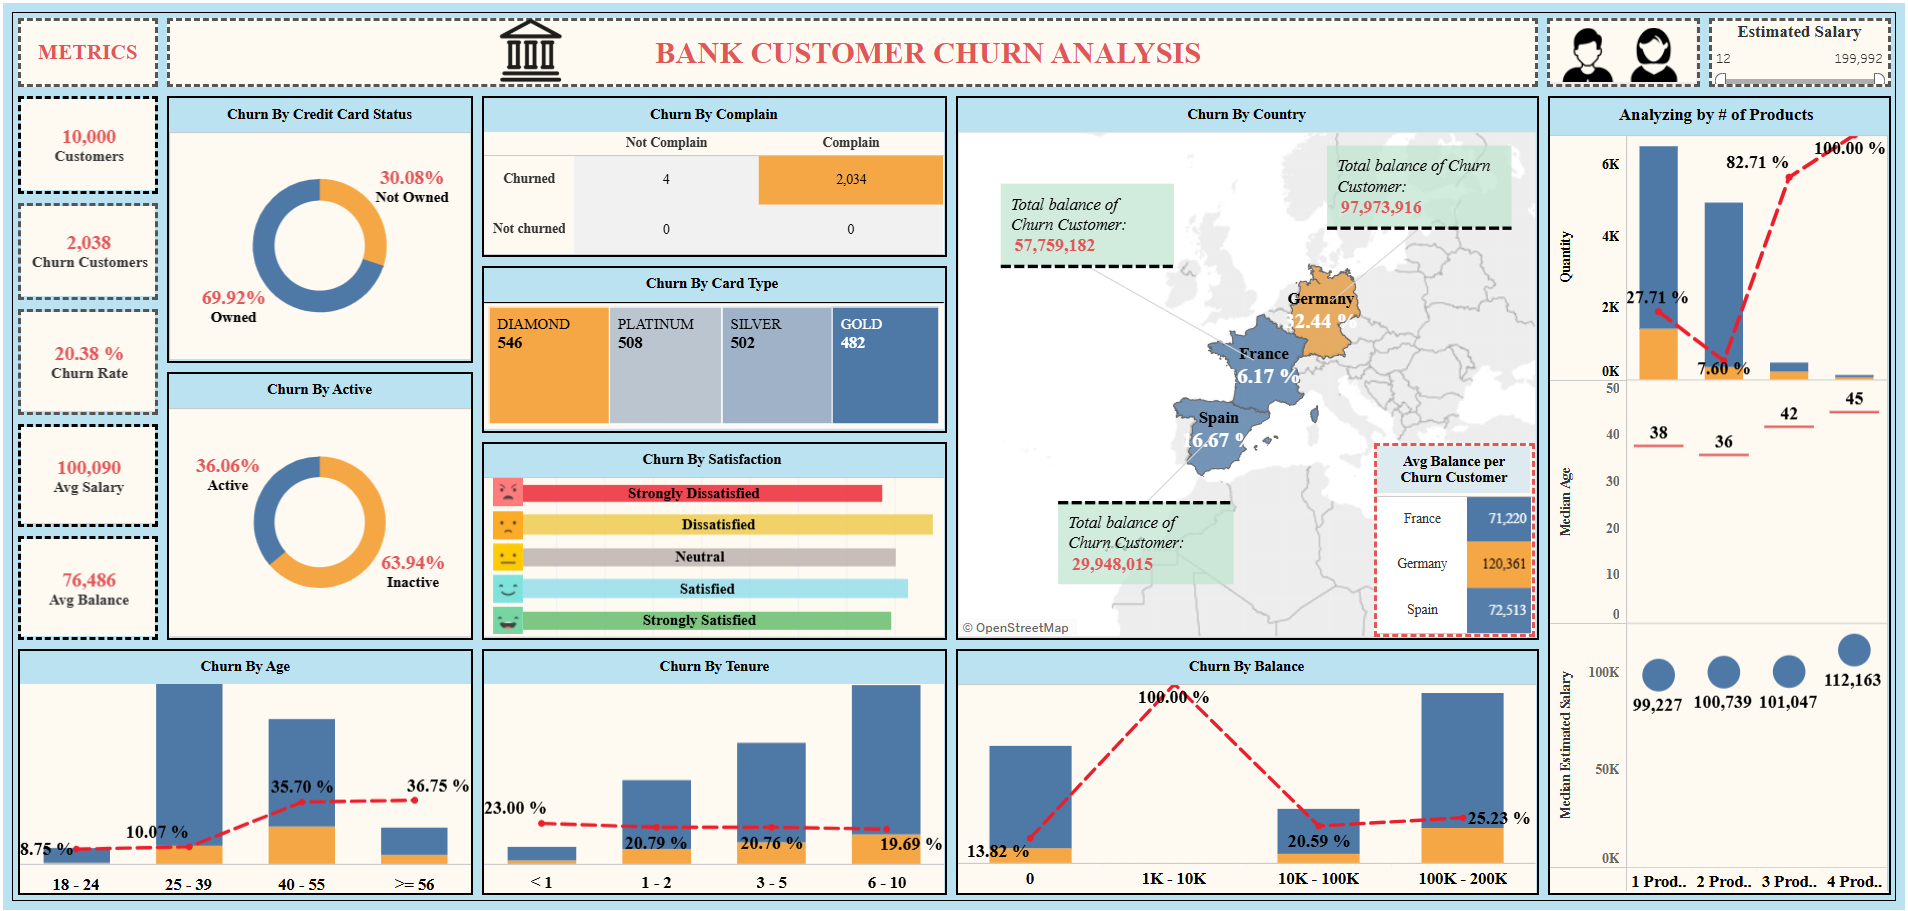

What the dashboard file says about the page in this screenshot:
{"tool":"tableau","page":{"name":"FINAL ","canvas":[1000,1000],"units":"permille","ordinal":0},"visuals":[{"type":"text","box":[4.8,10.6,78.5,86.9]},{"type":"text","box":[83.3,10.6,726.2,86.9]},{"type":"worksheet","title":"Gender Icon","mark":"Shape","box":[809.5,10.6,85.1,86.9]},{"type":"filter","title":"# of Churn Customers","param":"[federated.1y563ex0128zuw1749lqe1ok0bhp].[none:EstimatedSalary:qk]","box":[894.6,10.6,100.6,86.9]},{"type":"image","param":"Image/2703084_bank_banking_payment_icon.png","box":[253.2,15.3,48.2,74]},{"type":"worksheet","title":"Total Customers (2)","mark":"Automatic","box":[4.8,97.5,78.5,117.5]},{"type":"worksheet","title":"Churn By Credit Card Status","mark":"Pie","rows":["Calculation_710161369743765542","Calculation_710161369743765542"],"box":[83.3,97.5,165.9,304.9]},{"type":"worksheet","title":"Churn Status by Complain","mark":"Square","rows":["Calculation_1520527827365142551"],"cols":["Complain"],"box":[249.2,97.5,249.6,188]},{"type":"worksheet","title":"Balance & Country","mark":"Multipolygon","box":[498.7,97.5,311,609.8]},{"type":"worksheet","title":"Churn Rate By # of Products","mark":"Automatic","rows":["Calculation_104145742003478528","Age","EstimatedSalary"],"cols":["NumOfProducts"],"box":[809.7,97.5,185.5,891.9]},{"type":"worksheet","title":"# of Churn Customers","mark":"Automatic","box":[4.8,215,78.5,117.5]},{"type":"worksheet","title":"Card Type","mark":"Square","box":[249.2,285.5,249.6,193.9]},{"type":"worksheet","title":"Churn Rate","mark":"Automatic","box":[4.8,332.5,78.5,126.9]},{"type":"worksheet","title":"Churn By Active","mark":"Pie","rows":["Calculation_710161369743765542","Calculation_710161369743765542"],"box":[83.3,402.4,165.9,304.9]},{"type":"worksheet","title":"Avg Salary (2)","mark":"Automatic","box":[4.8,459.4,78.5,123.9]},{"type":"worksheet","title":"Likert Emotion","mark":"Shape","rows":["Calculation_710161369748348967"],"cols":["Calculation_1557682524359860226","Calculation_1167839682682208292"],"box":[249.2,479.4,249.6,227.8]},{"type":"worksheet","title":"Avg Balance per Customer","mark":"Square","rows":["Geography"],"box":[720.9,485.3,84.8,213.9]},{"type":"worksheet","title":"Avg Balance (2)","mark":"Automatic","box":[4.8,583.4,78.5,123.9]},{"type":"worksheet","title":"Churn By Age","mark":"Automatic","rows":["Calculation_104145742003478528"],"cols":["Calculation_1520527827272032262"],"box":[4.8,707.3,244.4,282.1]},{"type":"worksheet","title":"Churn By Tenure","mark":"Automatic","rows":["Calculation_104145742003478528"],"cols":["Calculation_928304477803687987"],"box":[249.2,707.3,249.3,282.1]},{"type":"worksheet","title":"Churn By Balance","mark":"Automatic","rows":["Calculation_104145742003478528"],"cols":["Calculation_1520527827279953929"],"box":[498.5,707.3,311.2,282.1]}]}

Visuals, with their boxes on the dashboard's canvas, which has no fixed pixel size, in thousandths of its width and height (x1, y1, x2, y2). These are canvas units, not pixel positions in the 1908x911 screenshot, which may show the page scaled, cropped or inside an application window:
text: crop(5, 11, 83, 98)
text: crop(83, 11, 810, 98)
"Gender Icon" worksheet (Shape marks): crop(810, 11, 895, 98)
"# of Churn Customers" filter: crop(895, 11, 995, 98)
image: crop(253, 15, 301, 89)
"Total Customers (2)" worksheet: crop(5, 98, 83, 215)
"Churn By Credit Card Status" worksheet (Pie marks): crop(83, 98, 249, 402)
"Churn Status by Complain" worksheet (Square marks): crop(249, 98, 499, 286)
"Balance & Country" worksheet (Multipolygon marks): crop(499, 98, 810, 707)
"Churn Rate By # of Products" worksheet: crop(810, 98, 995, 989)
"# of Churn Customers" worksheet: crop(5, 215, 83, 332)
"Card Type" worksheet (Square marks): crop(249, 286, 499, 479)
"Churn Rate" worksheet: crop(5, 332, 83, 459)
"Churn By Active" worksheet (Pie marks): crop(83, 402, 249, 707)
"Avg Salary (2)" worksheet: crop(5, 459, 83, 583)
"Likert Emotion" worksheet (Shape marks): crop(249, 479, 499, 707)
"Avg Balance per Customer" worksheet (Square marks): crop(721, 485, 806, 699)
"Avg Balance (2)" worksheet: crop(5, 583, 83, 707)
"Churn By Age" worksheet: crop(5, 707, 249, 989)
"Churn By Tenure" worksheet: crop(249, 707, 498, 989)
"Churn By Balance" worksheet: crop(498, 707, 810, 989)
